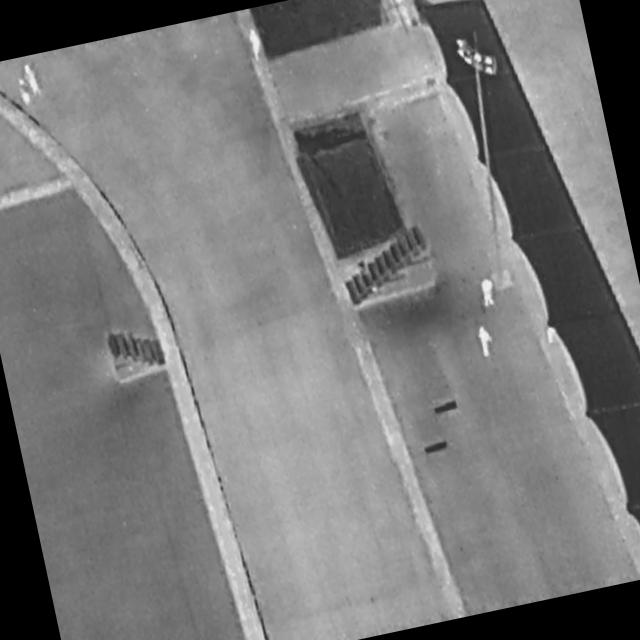person: (19, 59, 48, 102), (474, 322, 499, 361), (478, 273, 498, 309), (246, 27, 266, 62), (16, 77, 34, 108)
